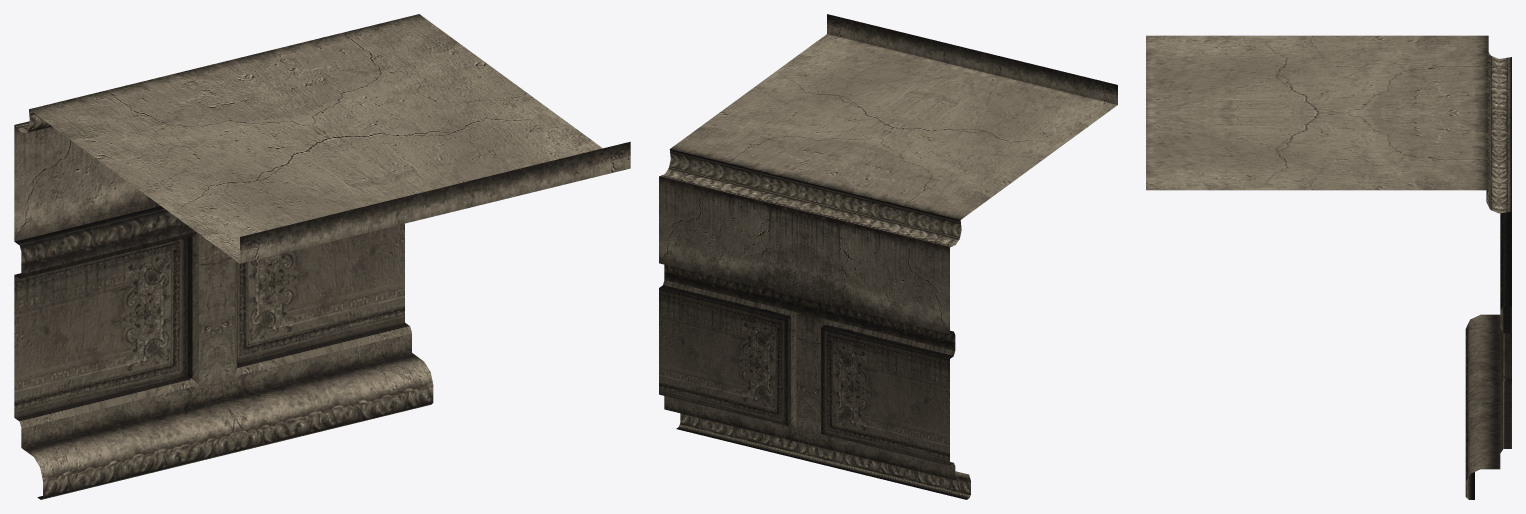
The model's file is concave01_short.dae.
3 views of the same model, side by side, from view 1: azimuth 30°, elevation 25°; view 2: azimuth 150°, elevation 25°; view 3: azimuth 270°, elevation 25° (orthographic). The views are drawn at different scales.
Visible parts, largest first — view 1: concave_short; view 2: concave_short; view 3: concave_short.
Part boxes in pixels (box(x1,y1,x2,y2)): concave_short: box(14, 14, 630, 499); concave_short: box(659, 14, 1117, 499); concave_short: box(1146, 35, 1511, 499).
Bounding box in the file's own units: 2 × 2 × 2.
1 material, 1 textured.
